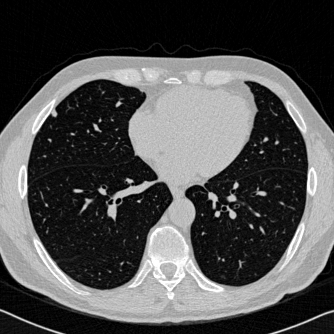nodule: (51, 110, 57, 116)
